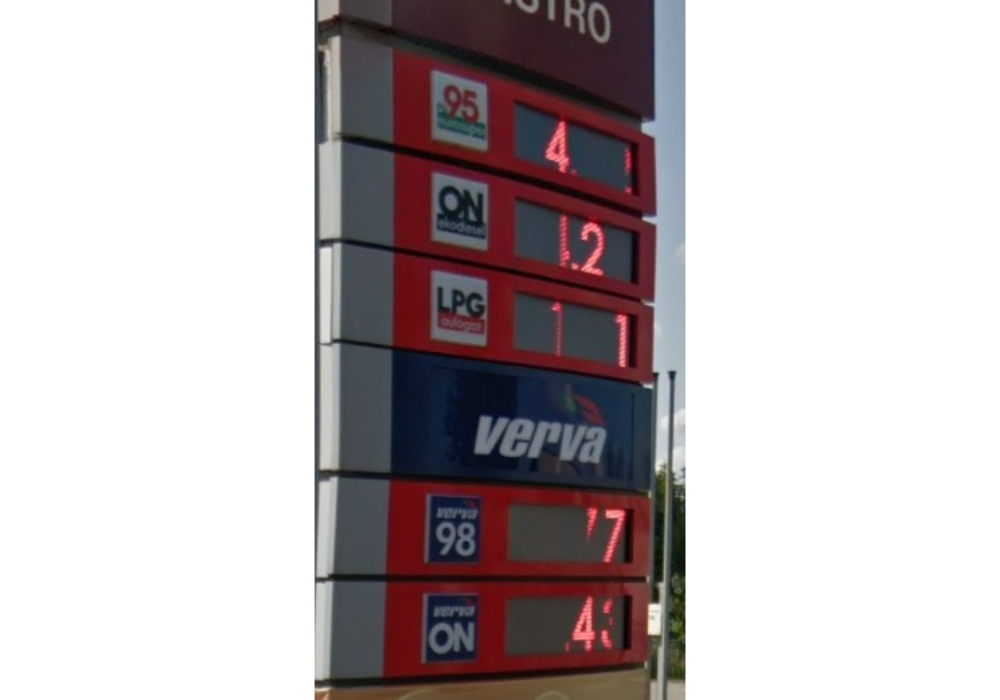LPG: (427, 269, 490, 350)
ON: (427, 170, 489, 255), (420, 589, 481, 667)
PB95: (427, 67, 490, 154)
PB98: (423, 492, 484, 567)
